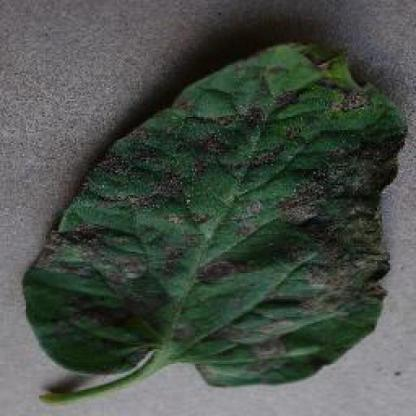Tomato_Blight: (23, 39, 404, 379)
